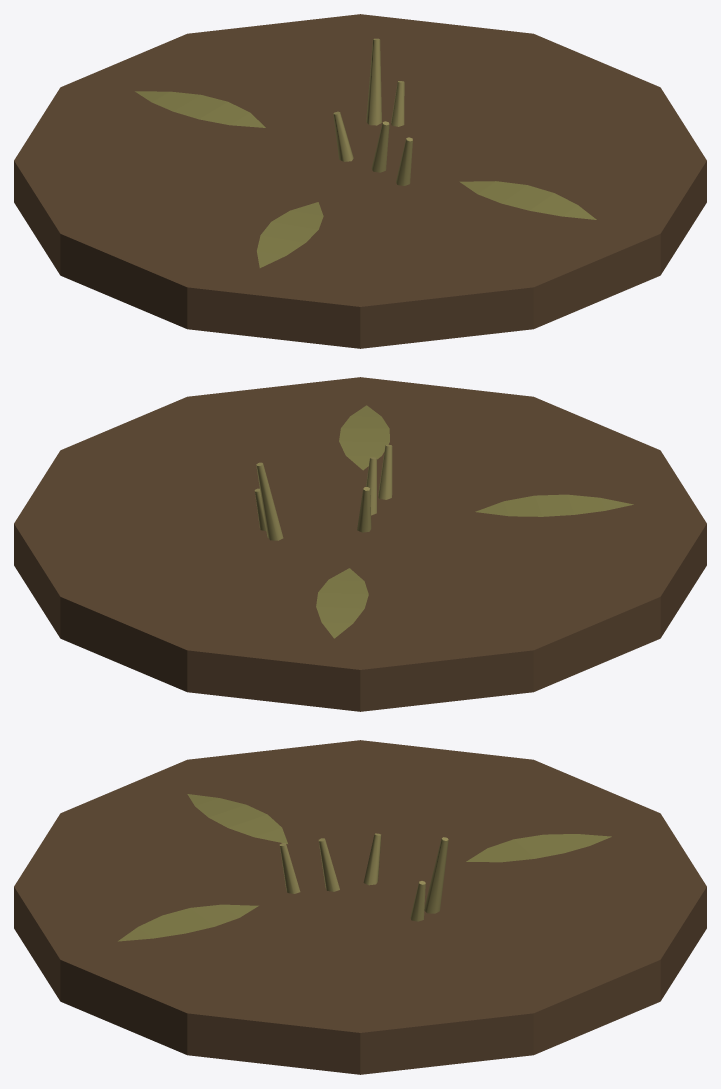
File: wegerich-geerntet.glb
The picture shows the model from 3 angles, top to bottom: view 1: azimuth 30°, elevation 25°; view 2: azimuth 150°, elevation 25°; view 3: azimuth 270°, elevation 25°; orthographic projection.
Parts seen in each view (by area): view 1: wegerich; view 2: wegerich; view 3: wegerich.
Boxes of the visible parts, x1=… form: wegerich: x1=14, y1=14, x2=706, y2=348; wegerich: x1=14, y1=377, x2=706, y2=711; wegerich: x1=14, y1=740, x2=706, y2=1074.
Size of the model in its own units: 0.3 by 0.0566 by 0.3.
